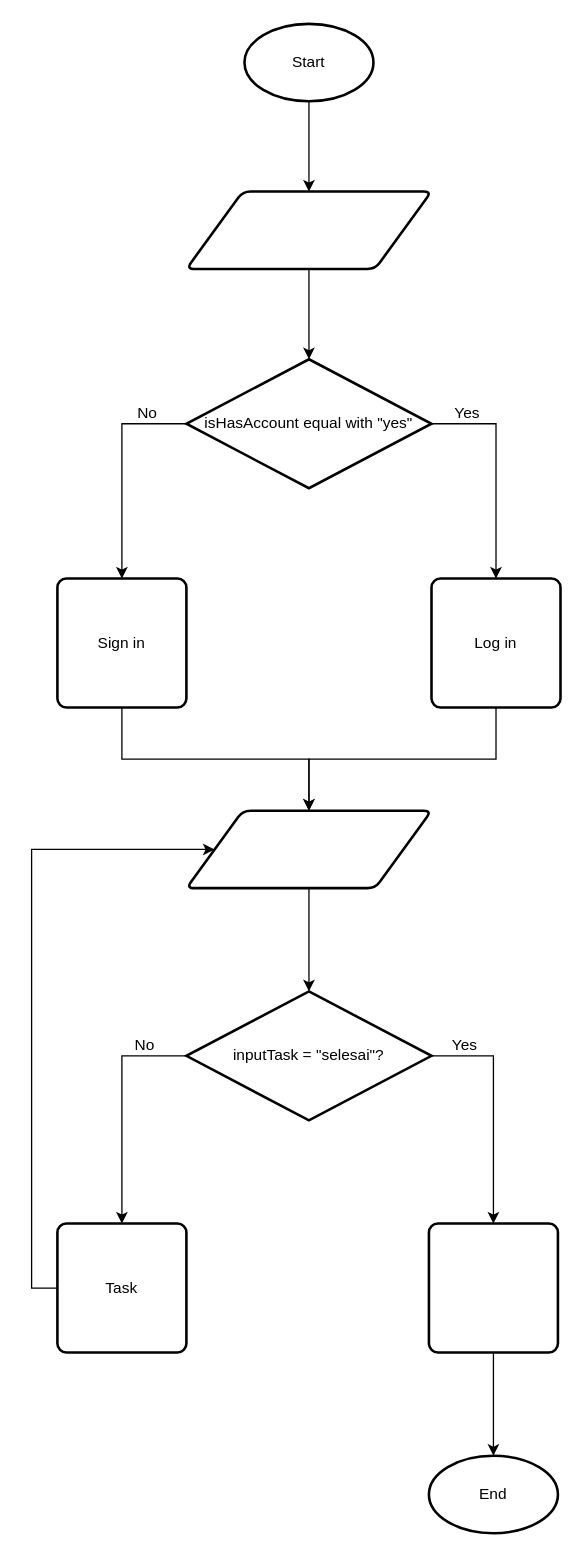
Image size: 584x1556. Some labels were removed from this diagram. Each missing label, with the centre of its shape:
"INPUT inputTask" belongs at point 308,849.
"INPUT isHasAccount" belongs at point 308,230.
"Selesai" belongs at point 493,1287.
